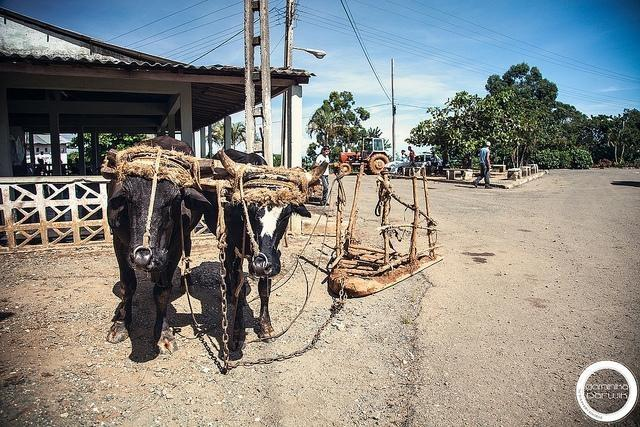car: (382, 154, 444, 174)
